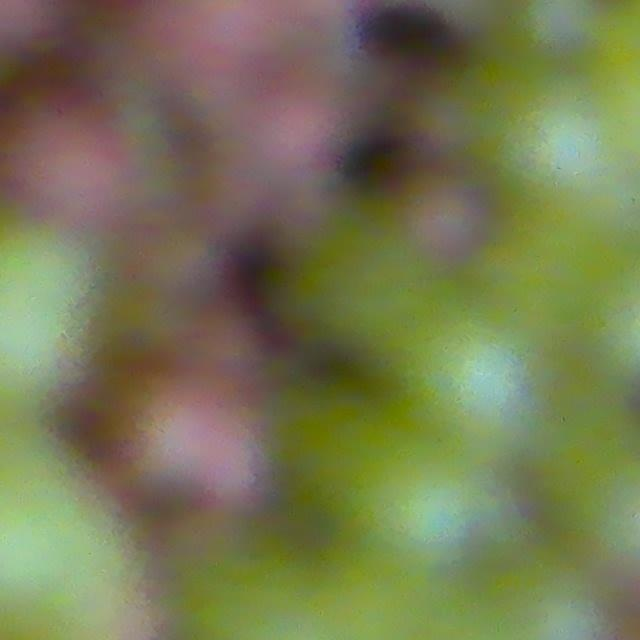SeaGrape: (347, 433, 496, 573), (391, 290, 540, 430), (0, 87, 118, 222), (504, 99, 609, 207), (500, 556, 612, 640)
